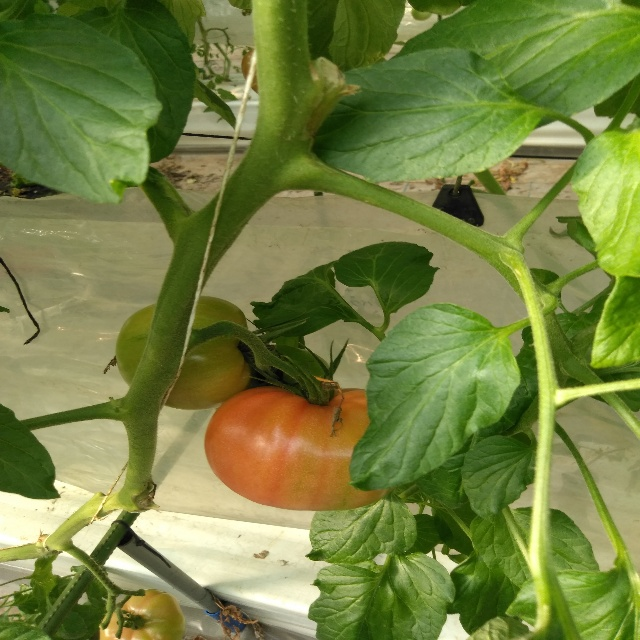b_half_ripened: (203, 387, 394, 511), (100, 589, 185, 640)
